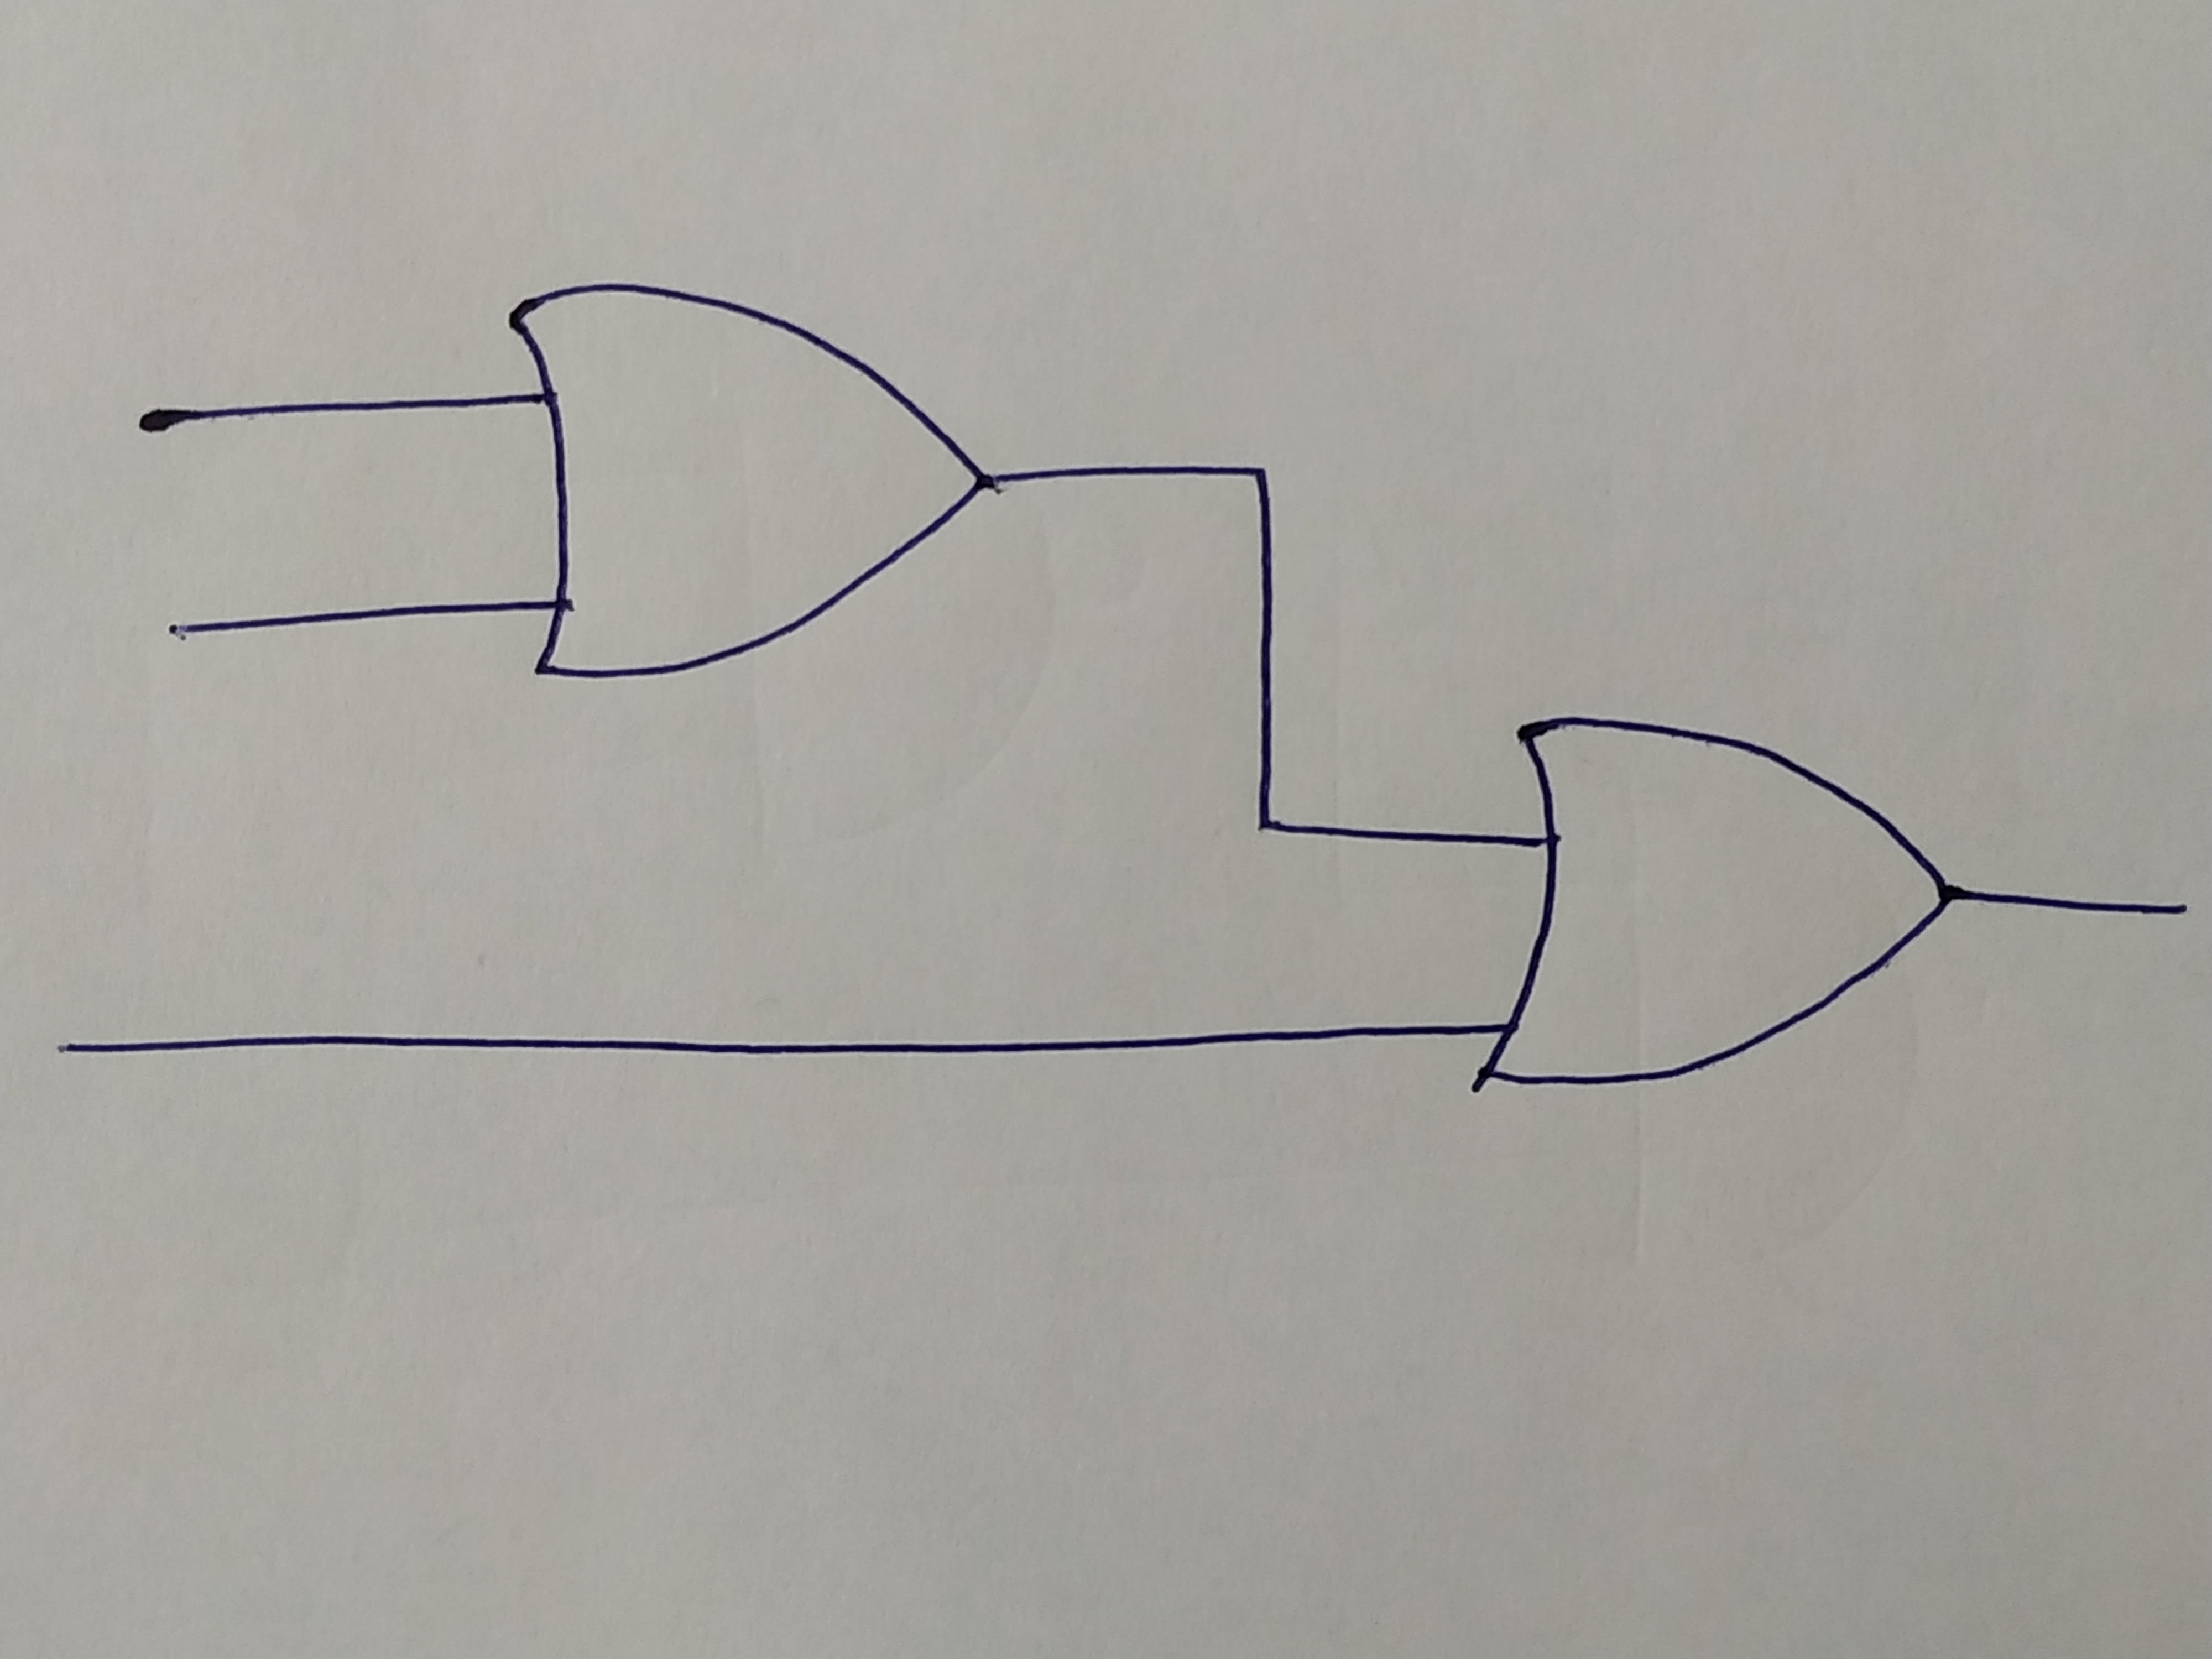or: (505, 282, 1000, 678), (1484, 720, 1946, 1096)
